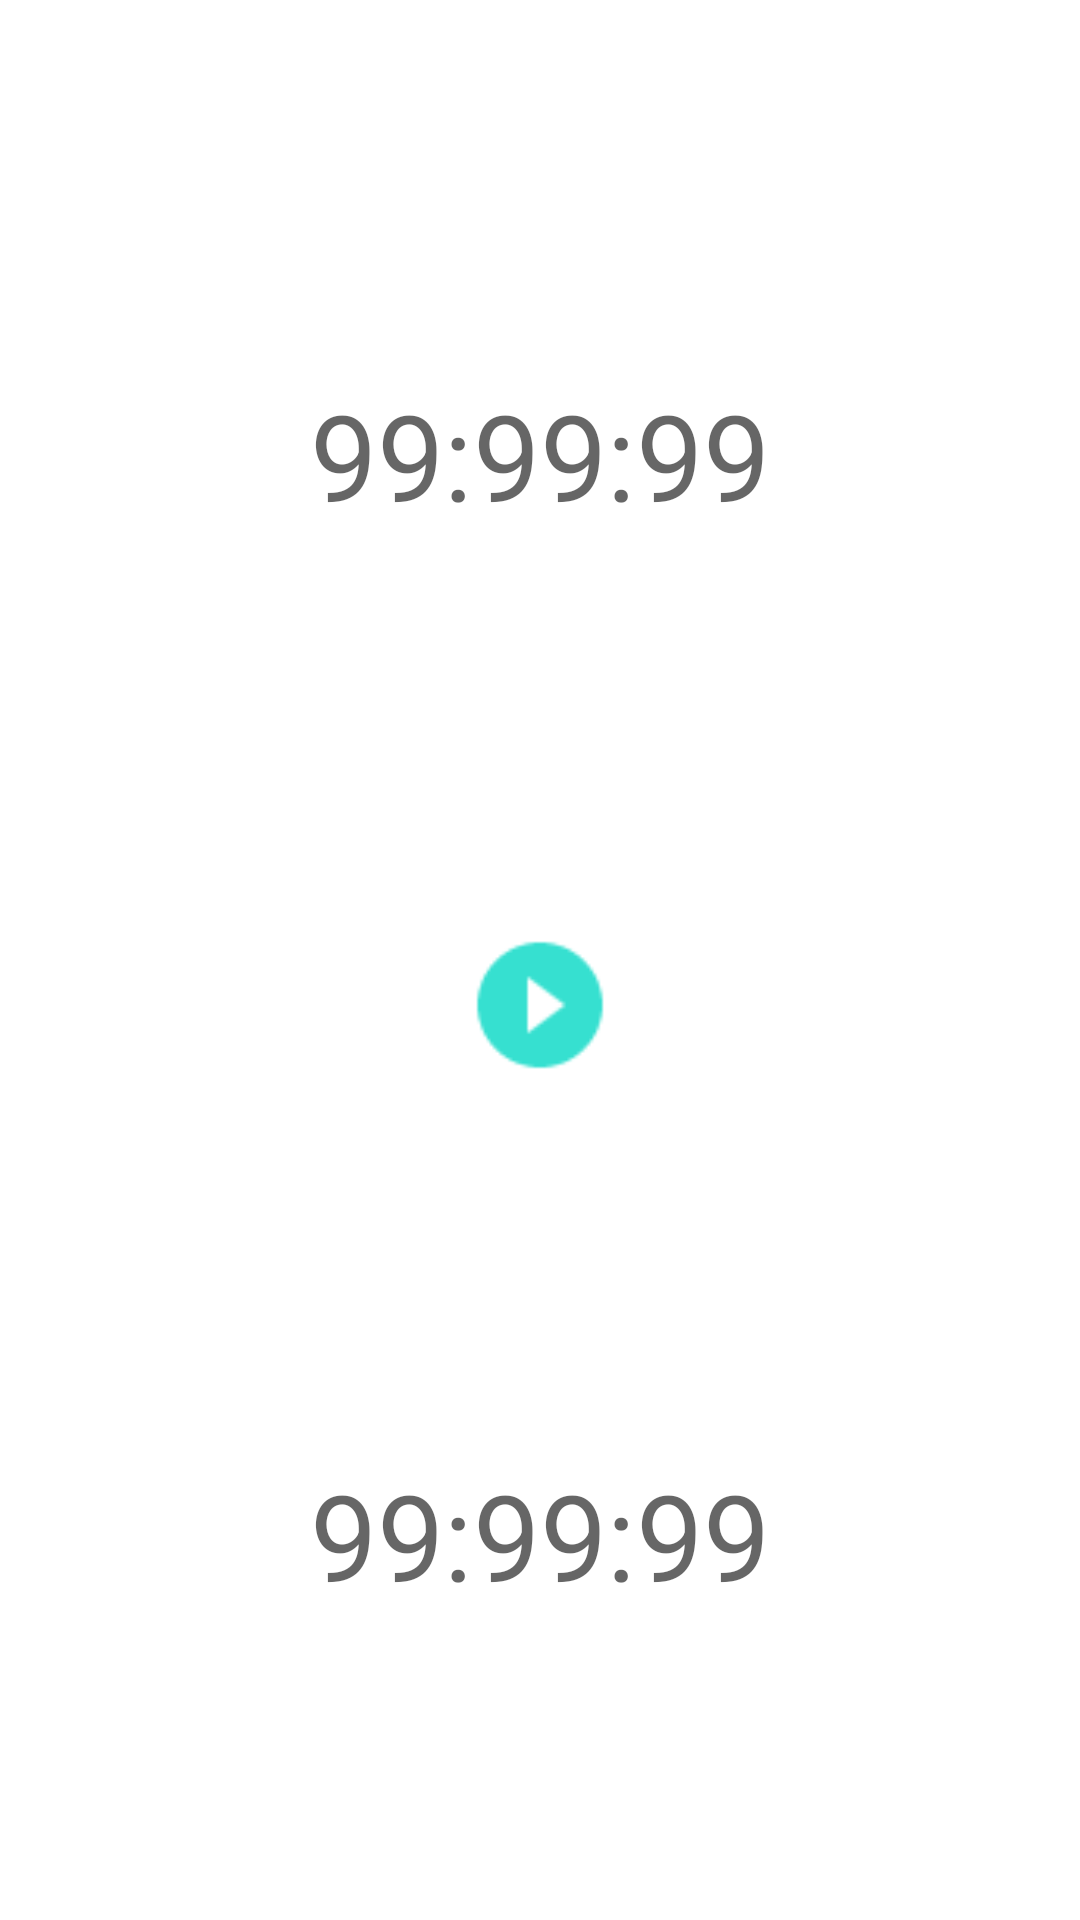

Screen size 1080*1920. Icon name, then its center in pixels as (x,y):
play: (540,1005)
